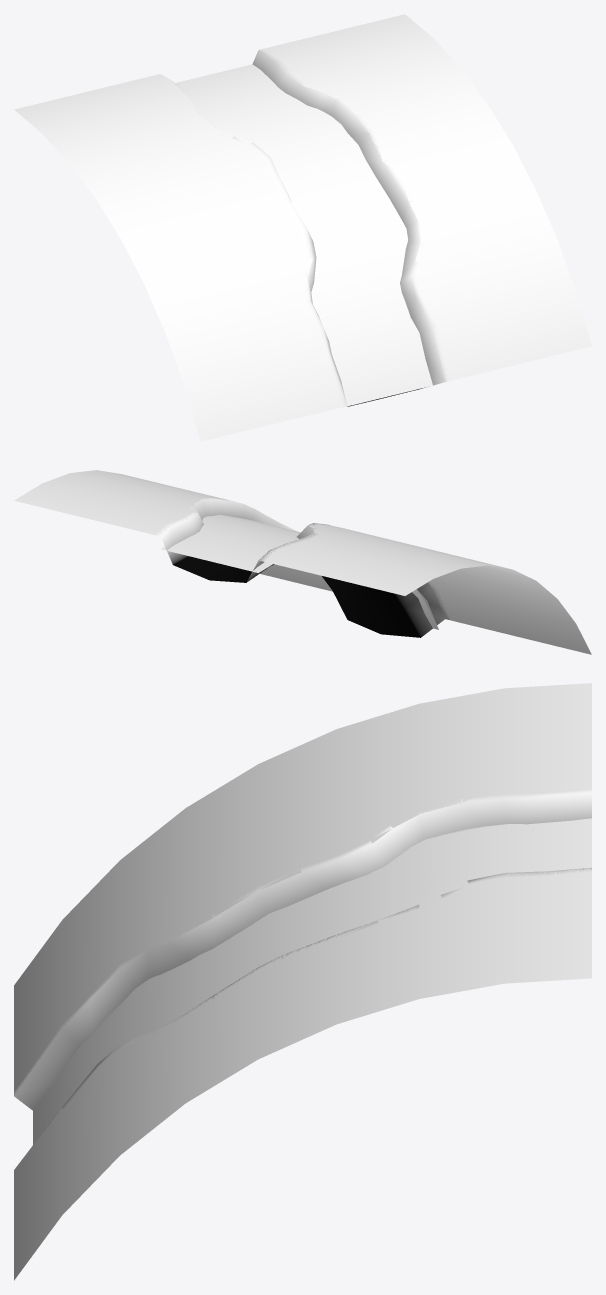
File: grd_Rn_0.dae
3 renders of one model, top to bottom at view 1: azimuth 30°, elevation 25°; view 2: azimuth 150°, elevation 25°; view 3: azimuth 270°, elevation 25°, orthographic. The views are drawn at different scales.
Parts seen in each view (by area): view 1: grass_1_0, river_2_0, cliff_river_0_0, river_edge_3_0; view 2: grass_1_0, cliff_river_0_0, river_2_0, river_edge_3_0; view 3: grass_1_0, river_2_0, cliff_river_0_0, river_edge_3_0.
Part boxes in pixels (box(x1,y1,x2,y2)): grass_1_0: box(14, 14, 591, 441); river_2_0: box(176, 64, 438, 407); cliff_river_0_0: box(156, 48, 449, 407); river_edge_3_0: box(196, 64, 431, 407); grass_1_0: box(14, 470, 591, 654); cliff_river_0_0: box(155, 497, 451, 637); river_2_0: box(162, 515, 438, 629); river_edge_3_0: box(161, 514, 438, 629); grass_1_0: box(14, 683, 591, 1280); river_2_0: box(33, 818, 591, 1144); cliff_river_0_0: box(14, 789, 591, 1169); river_edge_3_0: box(33, 818, 591, 1114).
Size of the model in its own units: 512 by 264 by 423.
Materials: 4 (1 with a texture image).
